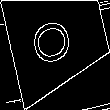O_E: (33, 13, 84, 68)
